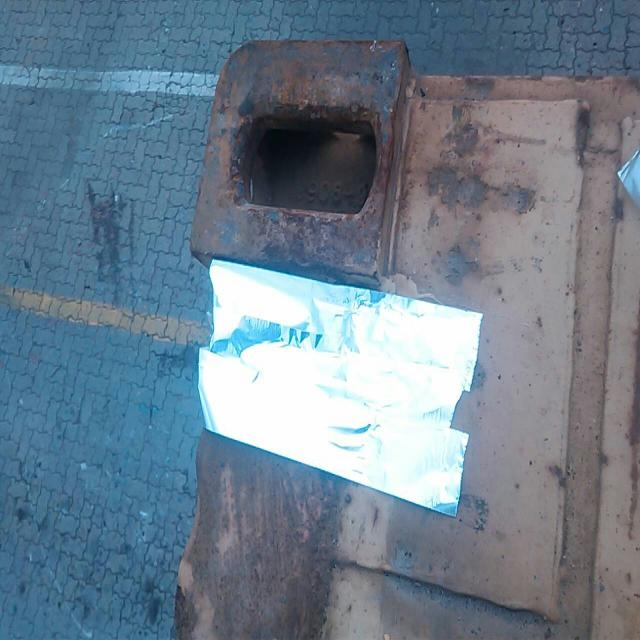rust: (171, 34, 416, 640), (421, 105, 543, 222), (428, 240, 490, 288)
